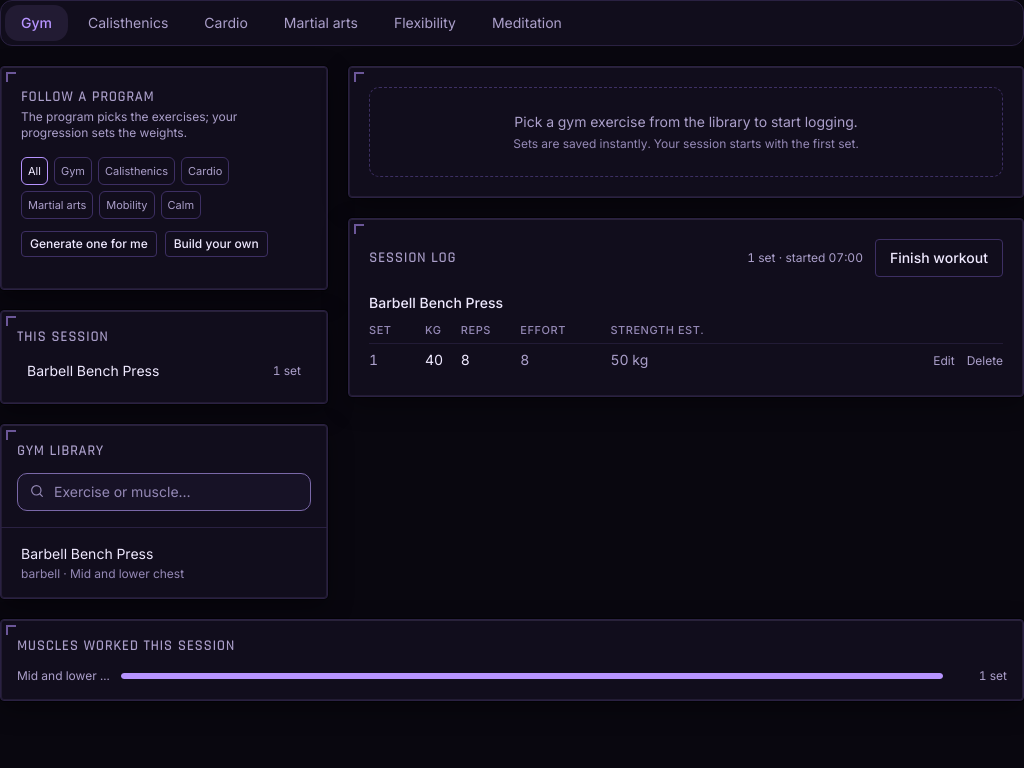
it: Training page › shows the finish moment with the 3-set rule instead of a toast
What coordinates should you click on to do the following:
click the button "Finish workout"
I would click on:
 (939, 258)
Its box is [875,239,1003,277].
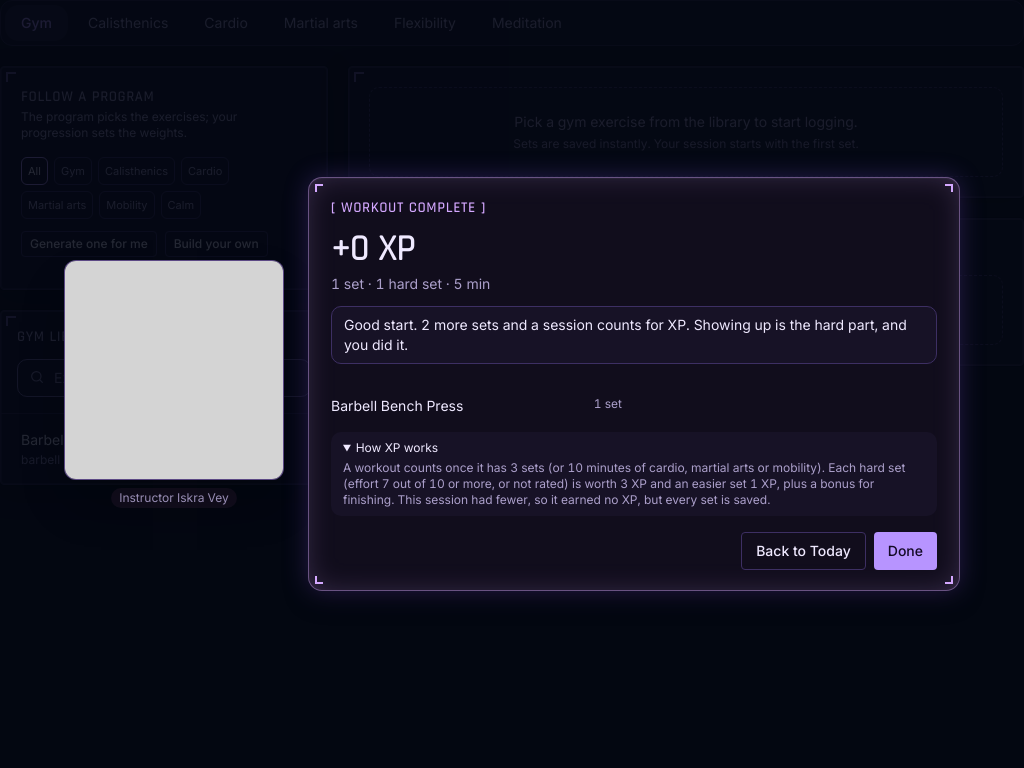
expect the element with test id "workout-finish" is shown: met
expect the text with test id "finish-xp" reads "+0 XP": met, box [331,227,415,272]
expect the text "counts once it has 3 sets" is shown: met, box [343,460,925,508]
